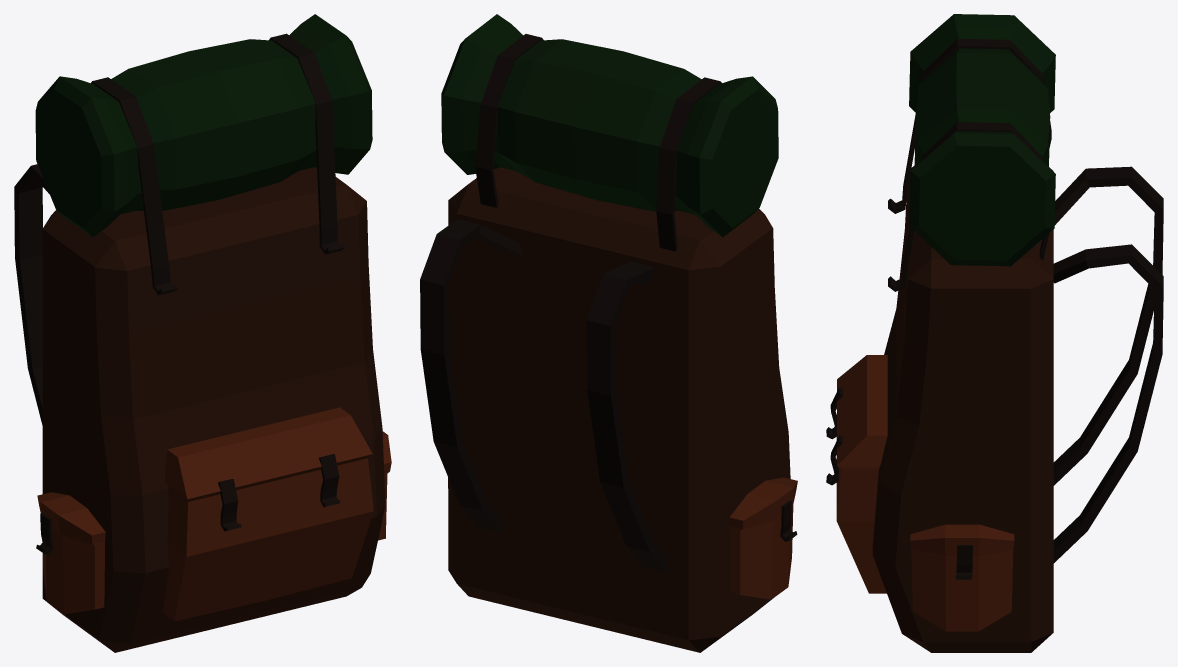
File: bag.obj
3 views of the same model, side by side, from view 1: azimuth 30°, elevation 25°; view 2: azimuth 150°, elevation 25°; view 3: azimuth 270°, elevation 25° (orthographic). The views are drawn at different scales.
Parts seen in each view (by area): view 1: Backpack_Backpack, Backpack_BackpackSleepingBag, Backpack_BackpackPockets, Backpack_BackpackStrap; view 2: Backpack_Backpack, Backpack_BackpackSleepingBag, Backpack_BackpackStrap, Backpack_BackpackPockets; view 3: Backpack_Backpack, Backpack_BackpackSleepingBag, Backpack_BackpackPockets, Backpack_BackpackStrap.
Boxes of the visible parts, <box> form: Backpack_Backpack: <box>42,167,385,652</box>; Backpack_BackpackSleepingBag: <box>35,14,372,236</box>; Backpack_BackpackPockets: <box>37,407,391,621</box>; Backpack_BackpackStrap: <box>14,33,344,555</box>; Backpack_Backpack: <box>448,167,790,652</box>; Backpack_BackpackSleepingBag: <box>441,14,778,237</box>; Backpack_BackpackStrap: <box>420,34,797,572</box>; Backpack_BackpackPockets: <box>448,477,797,599</box>; Backpack_Backpack: <box>872,165,1053,652</box>; Backpack_BackpackSleepingBag: <box>909,14,1055,266</box>; Backpack_BackpackPockets: <box>836,355,1014,631</box>; Backpack_BackpackStrap: <box>826,38,1163,579</box>.
Size of the model in its own units: 0.5109 by 0.7789 by 0.4535.
